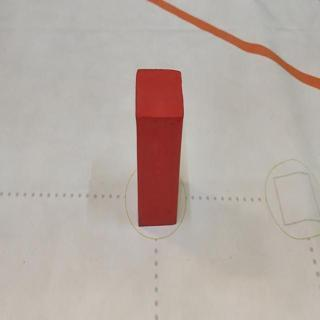redbox: (135, 65, 185, 226)
